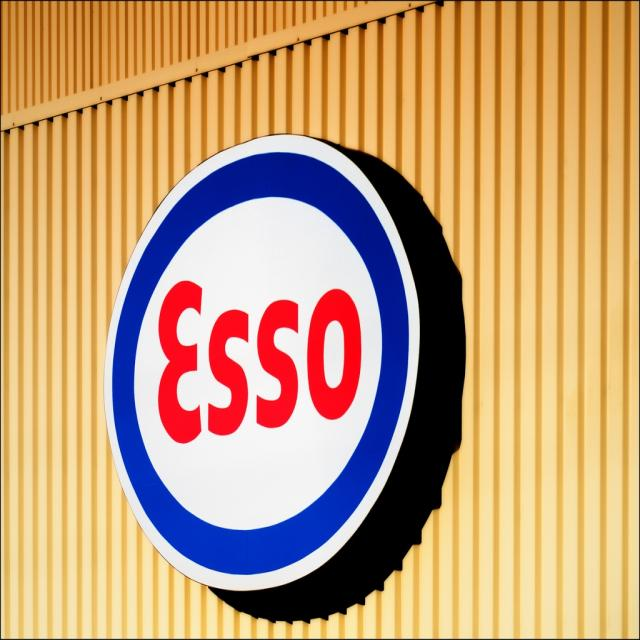esso: (98, 148, 415, 593)
